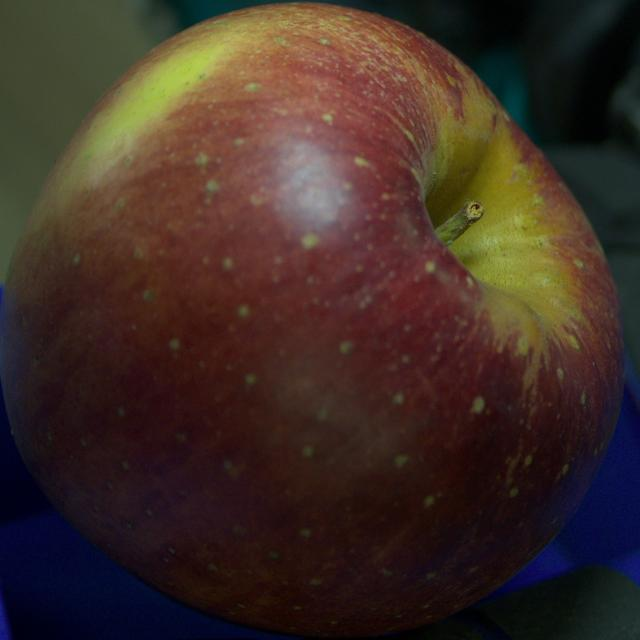apple: (0, 3, 624, 636)
